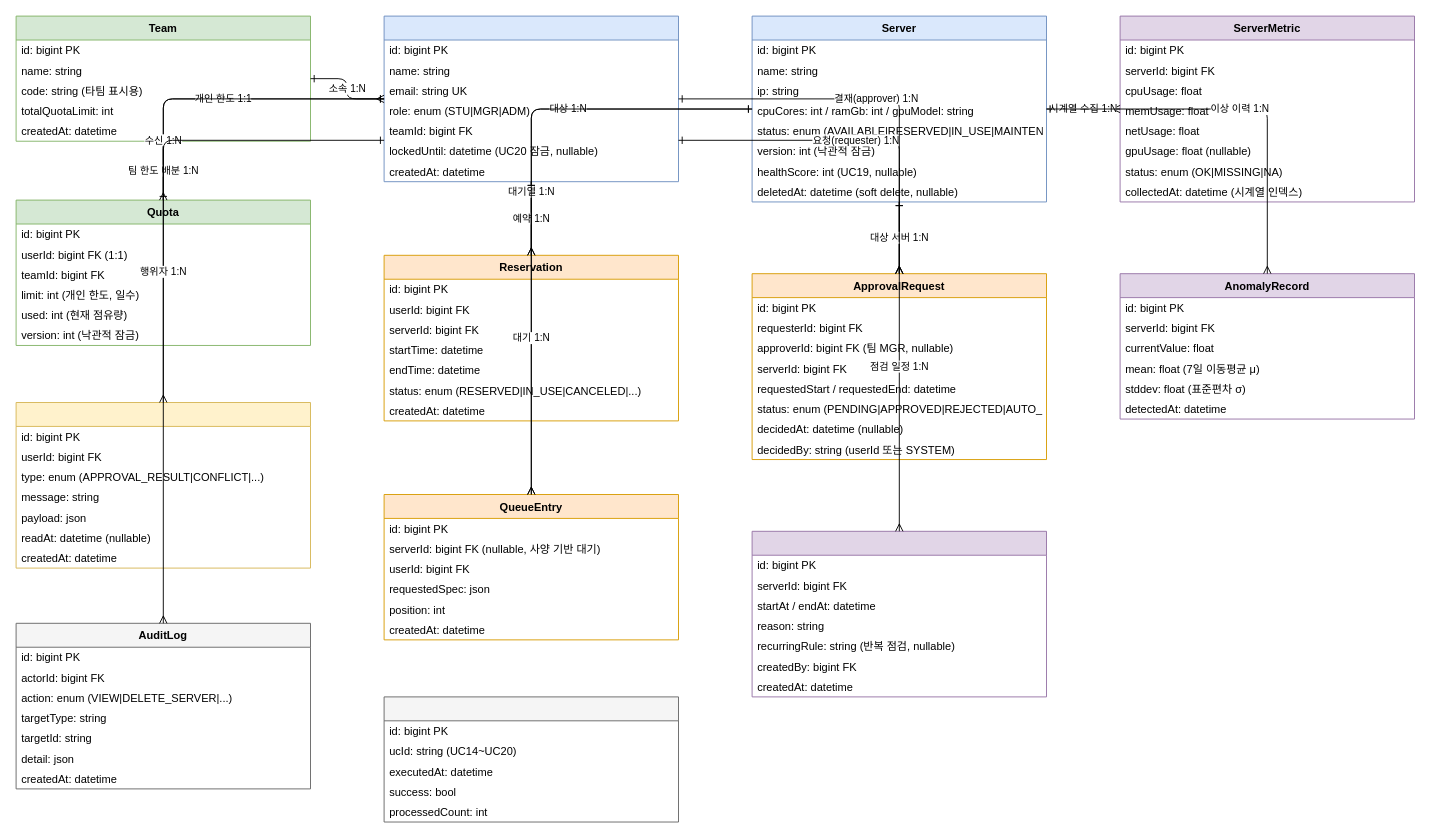
Image size: 1431x838. Some labels were removed from this diagram. The shapes that lost their labels are listed below. From the top down, each one's box as (x1, y1, x2, y2) in pixels, then its label:
(383, 15, 678, 182): User
(15, 402, 310, 568): Notification
(751, 530, 1046, 697): MaintenanceSchedule
(383, 696, 678, 822): SchedulerLog
